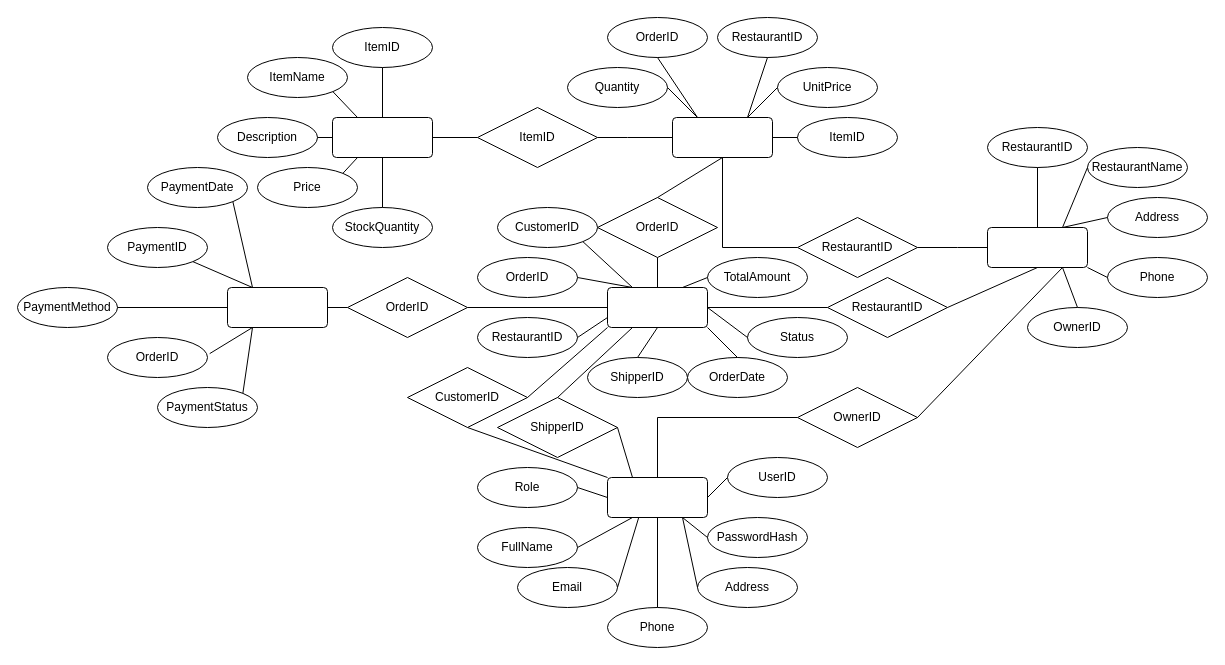
Image size: 1225x665. Some labels were removed from this diagram. Each missing label, with the centre of its shape:
MenuItems: point 382,137
OrderDetails: point 722,137
Orders: point 657,307
Payment: point 277,307
Restaurant: point 1037,247
Users: point 657,497
